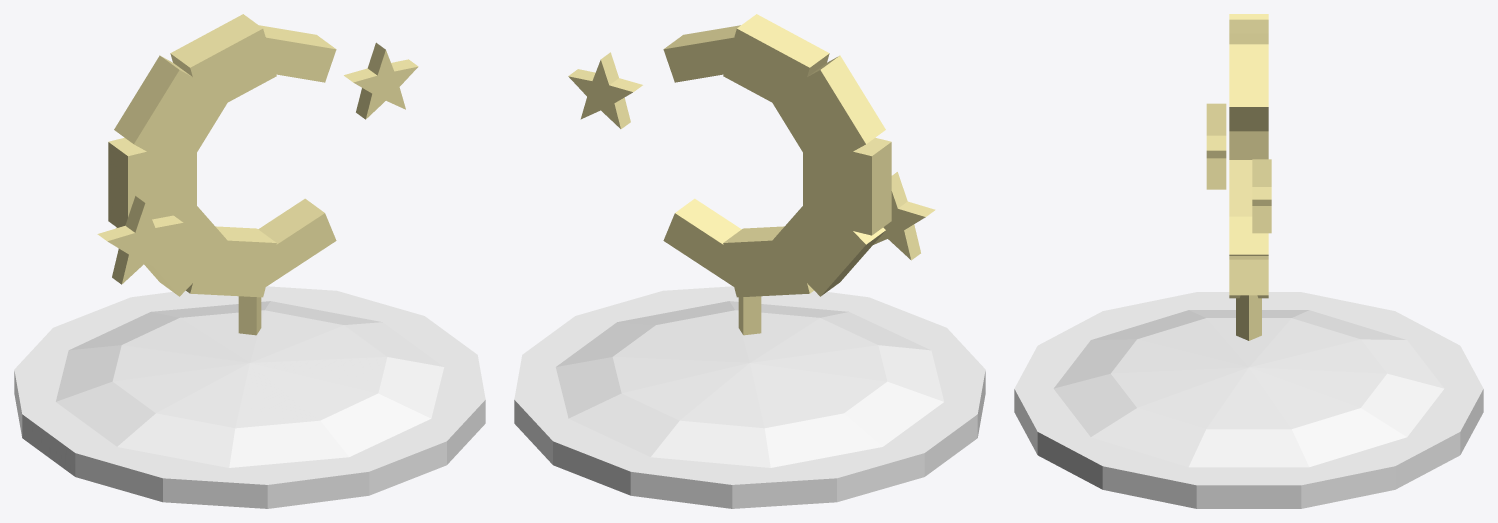
File: CatCafe_Item_MoonMilk.glb
3 renders of one model, left to right at view 1: azimuth 30°, elevation 25°; view 2: azimuth 150°, elevation 25°; view 3: azimuth 270°, elevation 25°, orthographic.
Visible parts, largest first — view 1: CatCafe_Item_MoonMilk; view 2: CatCafe_Item_MoonMilk; view 3: CatCafe_Item_MoonMilk.
Boxes of the visible parts, x1=… form: CatCafe_Item_MoonMilk: x1=14, y1=14, x2=485, y2=508; CatCafe_Item_MoonMilk: x1=514, y1=14, x2=985, y2=508; CatCafe_Item_MoonMilk: x1=1014, y1=14, x2=1483, y2=508.
Size of the model in its own units: 0.7019 by 0.6441 by 0.72.
Materials: 1 (1 with a texture image).
